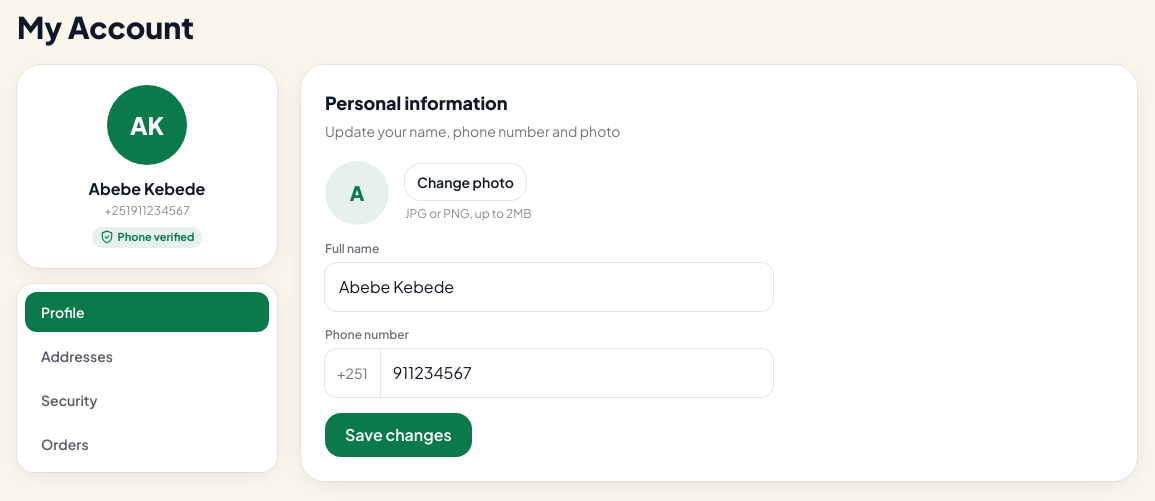
Scenario: AccountLayout › navigates to the Addresses tab
The width and height of the screenshot is (1155, 501).
Expected: the heading "Abebe Kebede" is shown, [89, 177, 205, 201]
Click the link "Addresses" at (77, 356), box [41, 346, 113, 364]
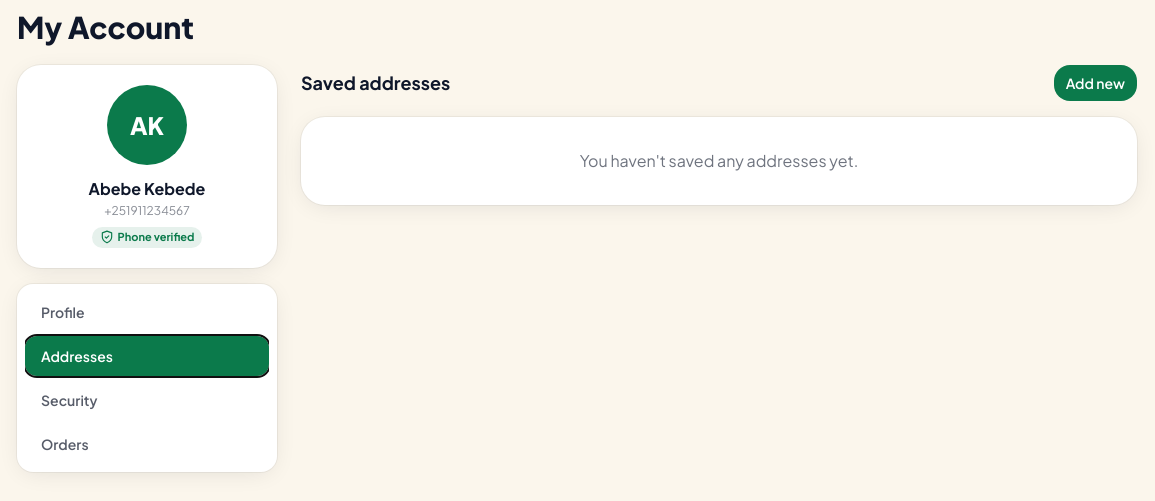
Now the text "You haven't saved any addresses yet." is shown, box [301, 117, 1137, 205]
